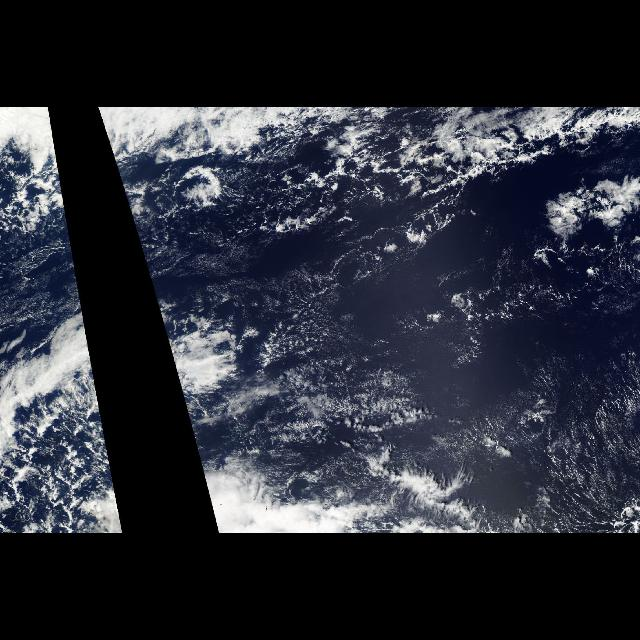Fish: (98, 107, 638, 239), (0, 107, 70, 239)
Gravel: (264, 179, 640, 533)
Sugar: (365, 255, 639, 532)
